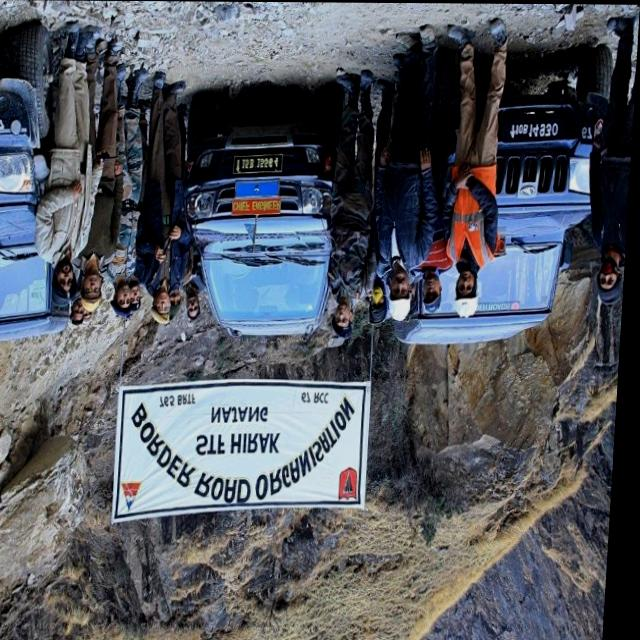0: (554, 122, 560, 135), (521, 125, 525, 132)
1: (517, 124, 521, 134), (531, 123, 534, 136), (244, 158, 247, 169), (259, 157, 262, 168)
3: (548, 122, 553, 135)
4: (534, 124, 540, 135)
5: (266, 158, 270, 166), (248, 158, 251, 168), (262, 159, 265, 167)
6: (276, 156, 281, 167), (270, 157, 275, 166)
9: (542, 123, 547, 135)
b: (525, 124, 529, 132), (252, 159, 255, 168)
